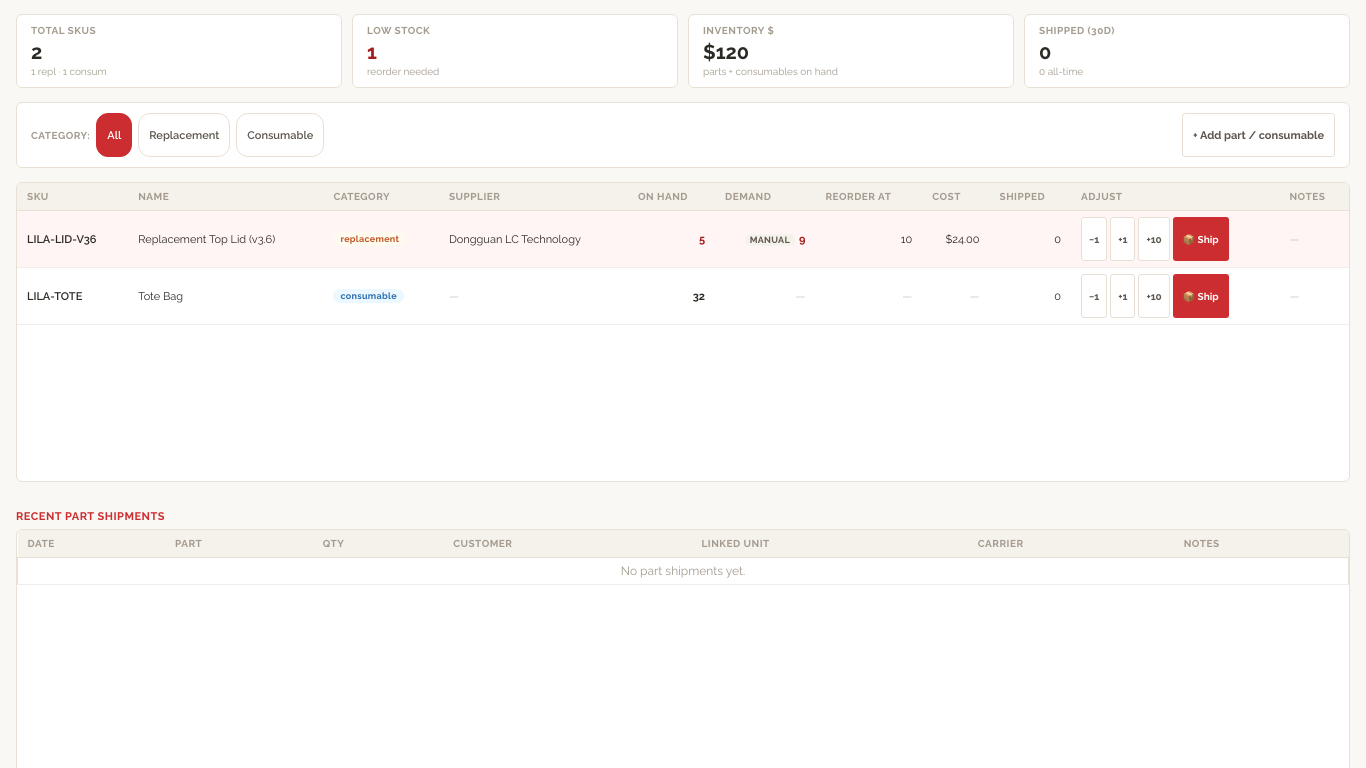
Test: Stock › Parts — editable details › refuses a SKU another part already uses
Click the button "LILA-TOTE". click: (68, 296)
box: x1=22 y1=274 x2=113 y2=318
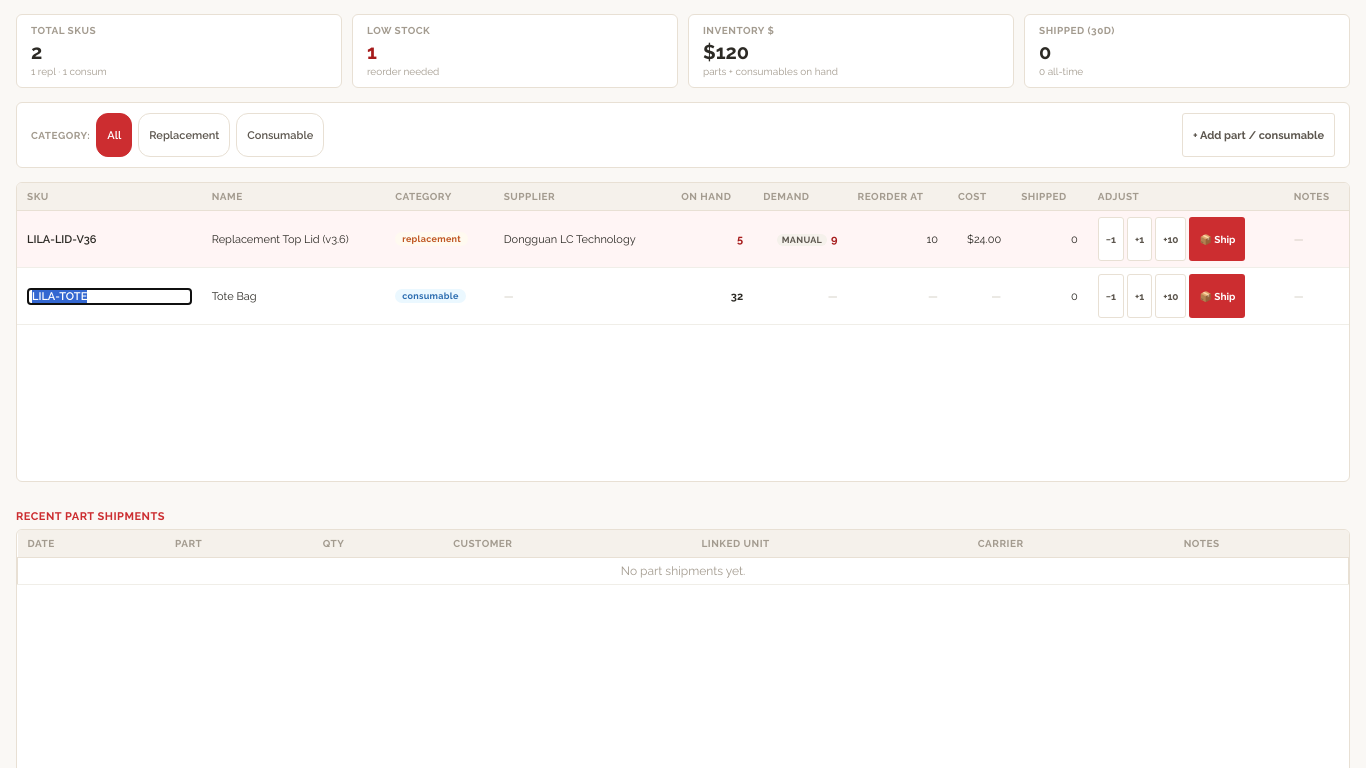
Replace the text in the field named "Tote Bag SKU" with "lila-lid-v36". click: (109, 296)
box: x1=27 y1=288 x2=192 y2=304
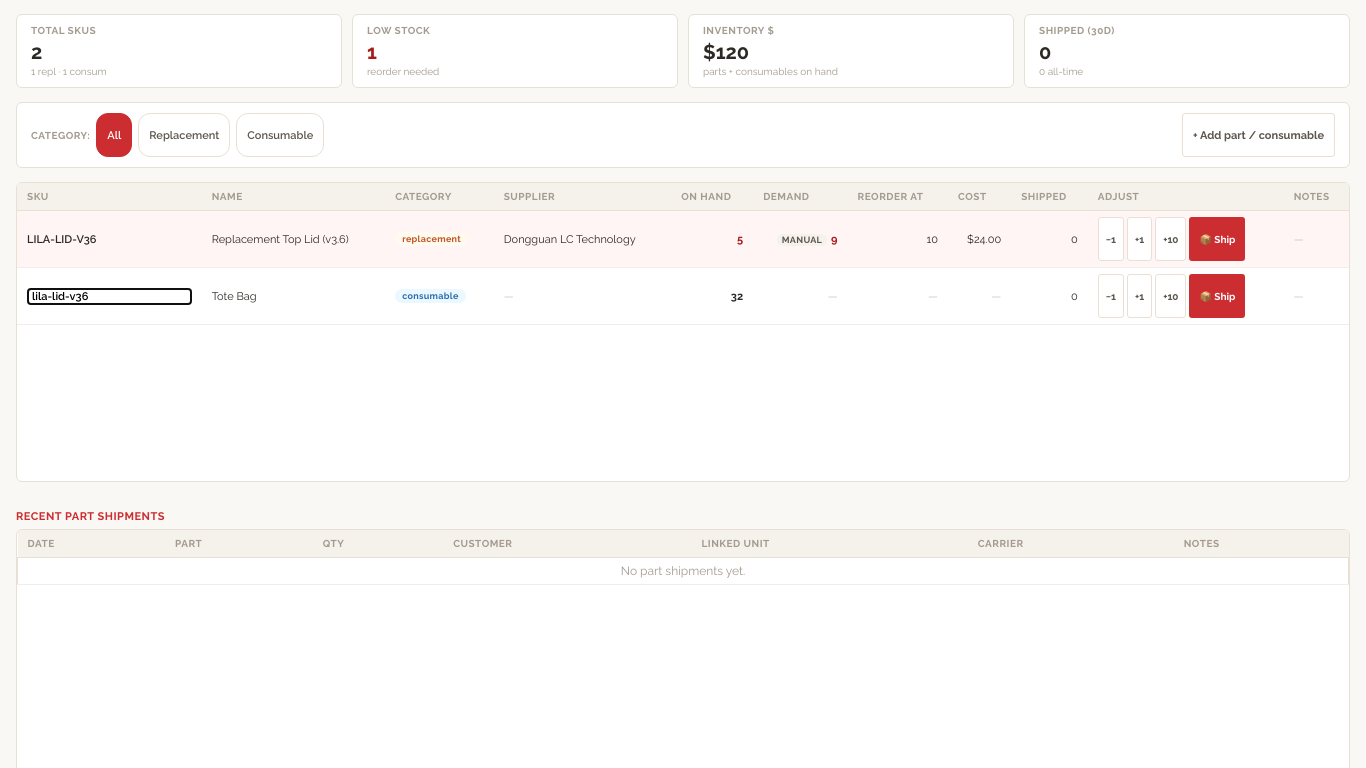
Press Enter in the field named "Tote Bag SKU", box x1=27 y1=288 x2=192 y2=304
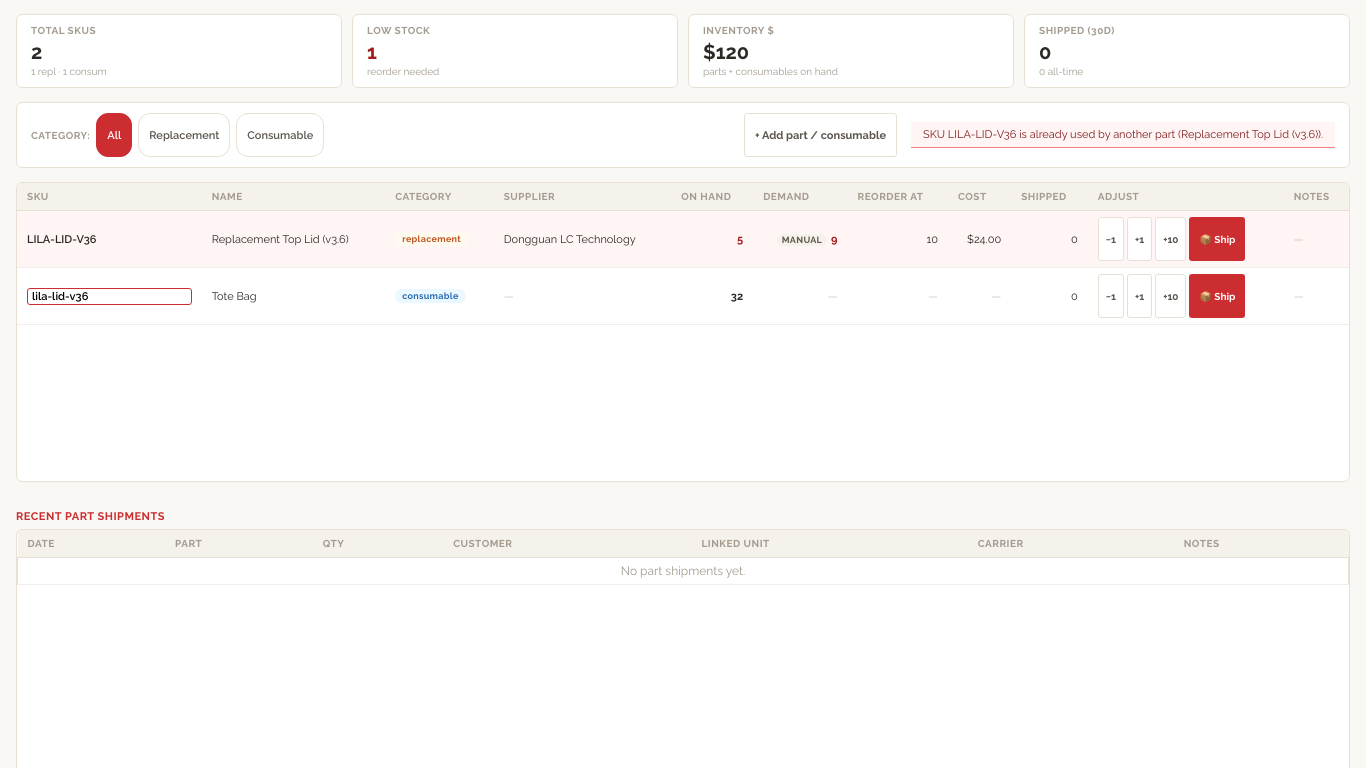
Now the text "already used by" is shown, box x1=923 y1=128 x2=1323 y2=141
